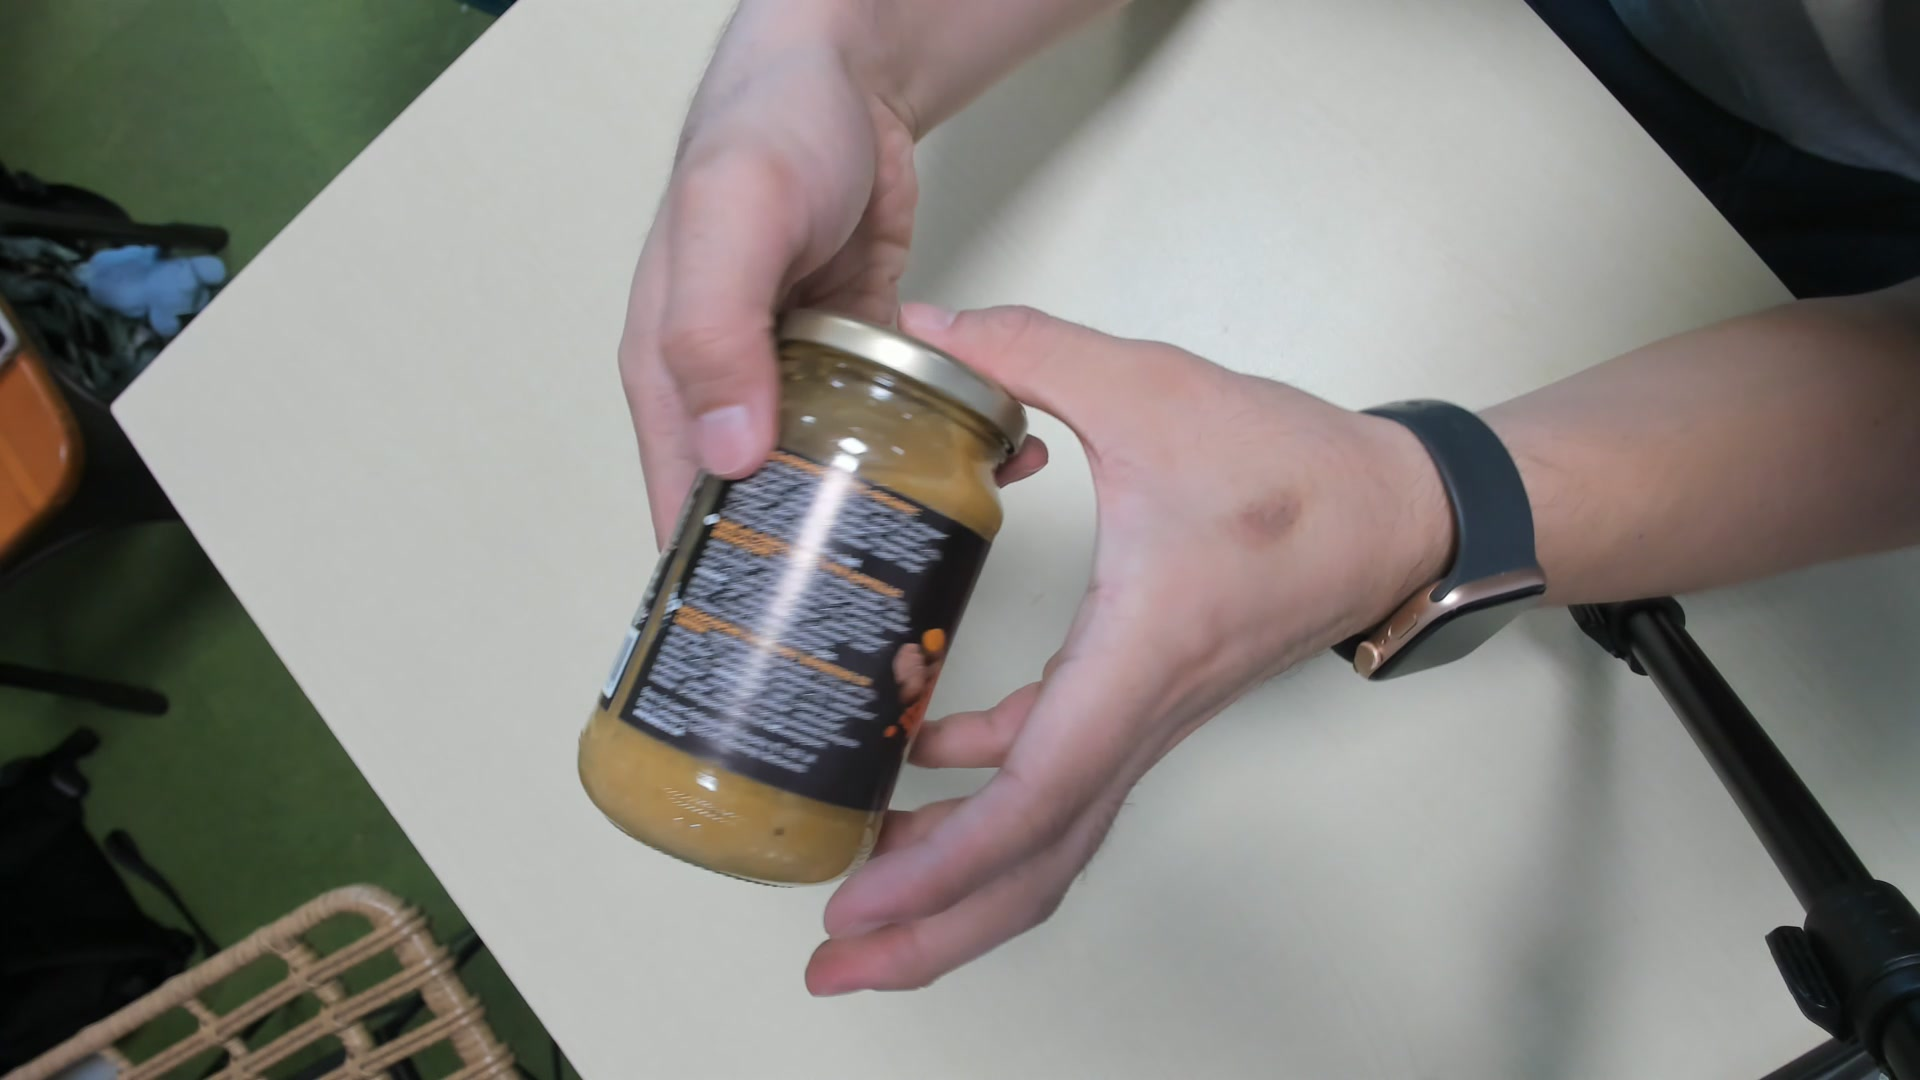OtherSauceDressing_300-399g_NonHalal_NonHealthy: (574, 315, 1030, 880)
